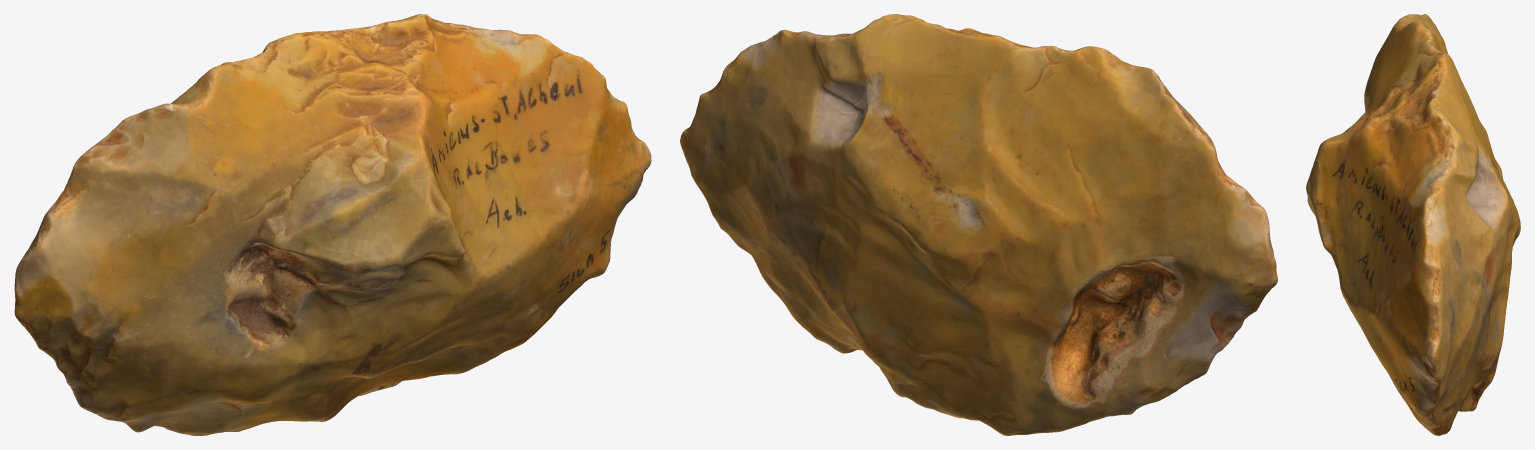
3 views of the same model, side by side, from view 1: azimuth 30°, elevation 25°; view 2: azimuth 150°, elevation 25°; view 3: azimuth 270°, elevation 25° (orthographic). The views are drawn at different scales.
Parts seen in each view (by area): view 1: Object_2; view 2: Object_2; view 3: Object_2.
Boxes of the visible parts, box(x1,y1,x2,y2) form: Object_2: box(14, 14, 651, 435); Object_2: box(680, 14, 1277, 435); Object_2: box(1306, 14, 1520, 435).
Bounding box in the file's own units: 0.0993 × 0.0604 × 0.0358.
Materials: 1 (1 with a texture image).
